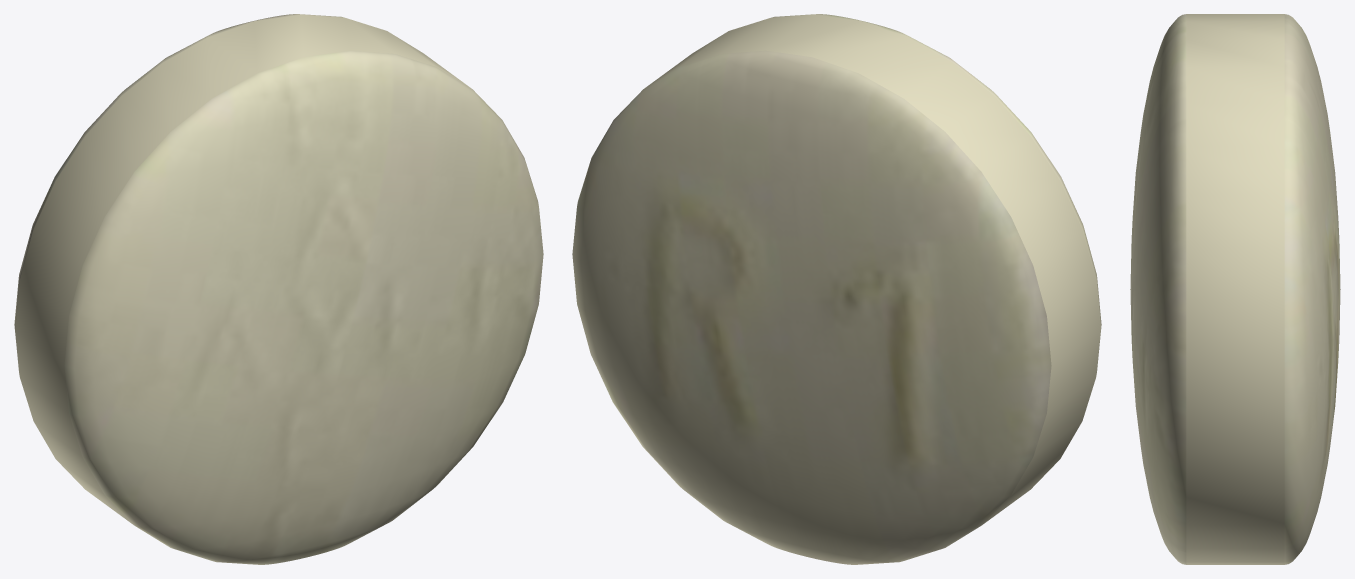
The model's file is 20160721GOPHDRGPT13811.fbx.
3 views of the same model, side by side, from view 1: azimuth 30°, elevation 25°; view 2: azimuth 150°, elevation 25°; view 3: azimuth 270°, elevation 25° (orthographic).
Parts seen in each view (by area): view 1: 球體.029; view 2: 球體.029; view 3: 球體.029.
Boxes of the visible parts, <box> form: 球體.029: <box>14,14,543,564</box>; 球體.029: <box>572,14,1101,564</box>; 球體.029: <box>1130,14,1340,564</box>.
Bounding box in the file's own units: 0.6046 × 0.6046 × 0.2302.
